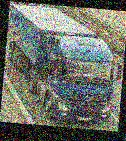truck: (2, 4, 126, 126)
